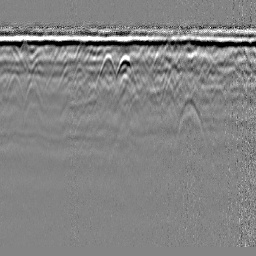cavity: (115, 52, 136, 81)
